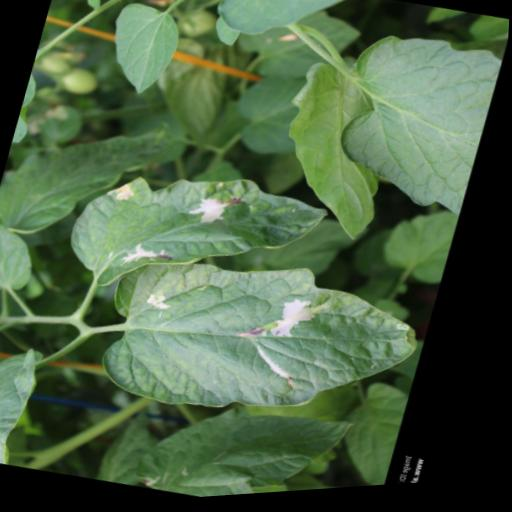Healthy: (313, 22, 508, 232), (0, 90, 179, 265), (98, 0, 192, 104), (0, 329, 54, 469)
Leaf_Miner: (79, 221, 445, 467), (54, 138, 341, 339)
